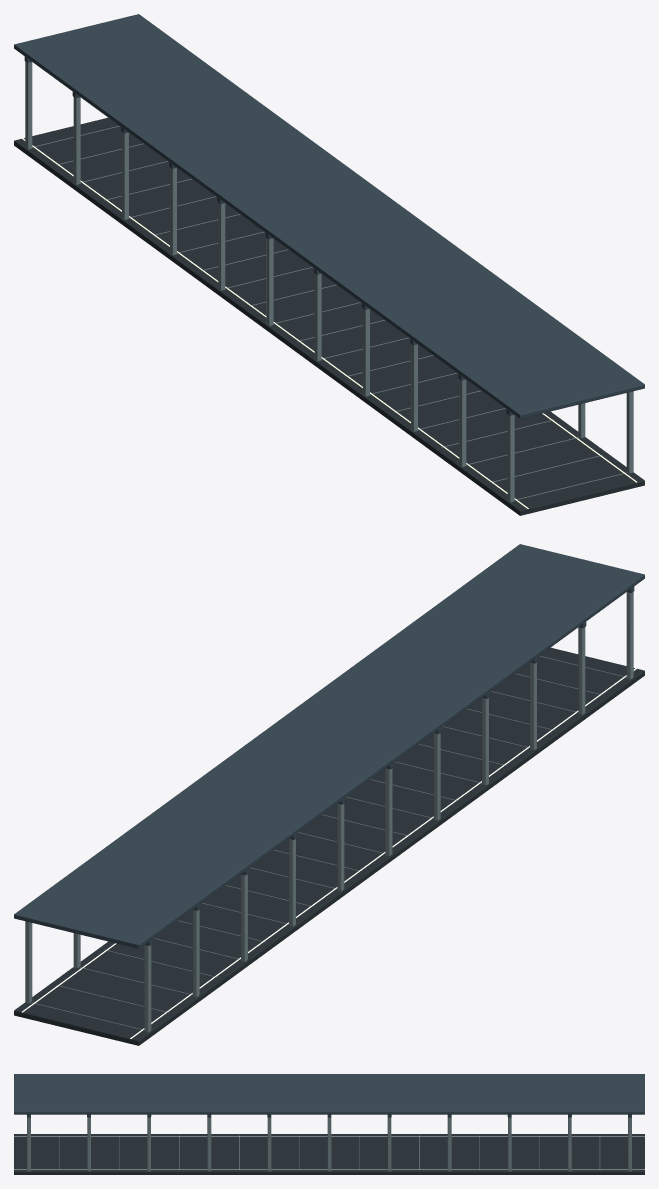
File: hallway.glb
3 renders of one model, top to bottom at view 1: azimuth 30°, elevation 25°; view 2: azimuth 150°, elevation 25°; view 3: azimuth 270°, elevation 25°, orthographic. The views are drawn at different scales.
Visible parts, largest first — view 1: hallway; view 2: hallway; view 3: hallway.
Boxes of the visible parts, left/top/right/bottom form: hallway: left=14, top=14, right=644, bottom=515; hallway: left=14, top=544, right=644, bottom=1045; hallway: left=14, top=1074, right=644, bottom=1174.
Bounding box in the file's own units: 6 × 4.64 × 42.
